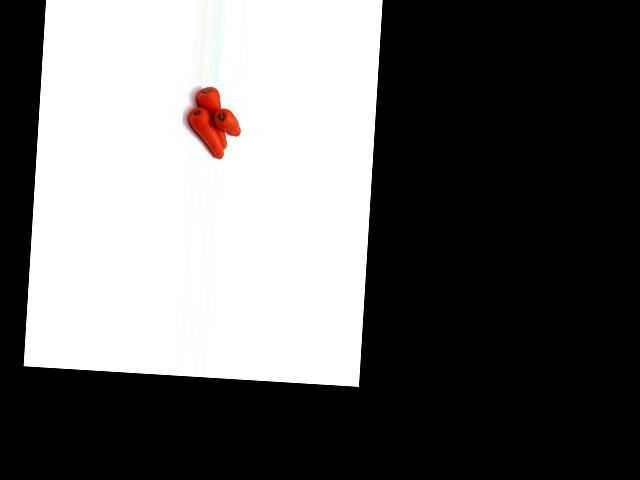carrot: (191, 86, 229, 150)
